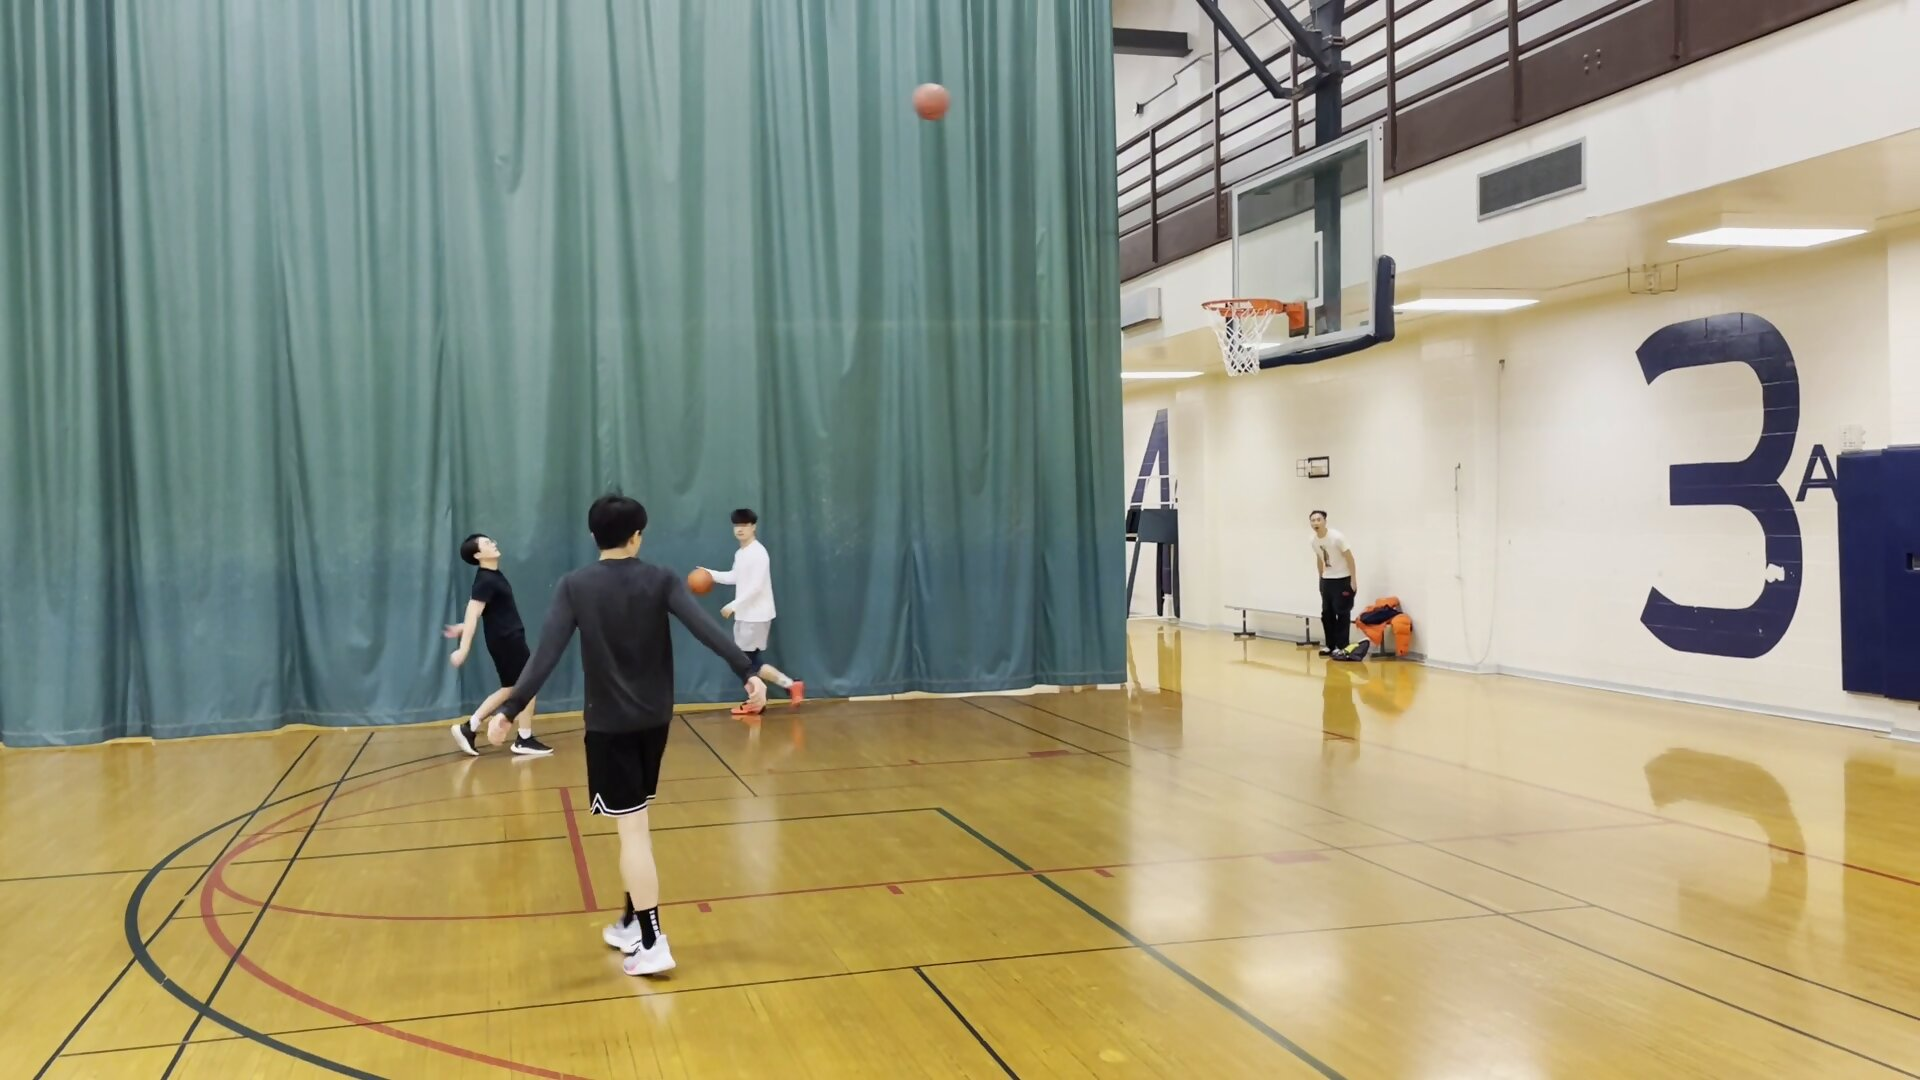ball: (905, 84, 957, 122), (682, 563, 721, 601)
net: (1208, 348, 1281, 381)
player: (510, 489, 757, 997), (438, 527, 559, 763), (712, 506, 808, 724), (1305, 505, 1362, 667)
rim: (1196, 293, 1292, 323)
